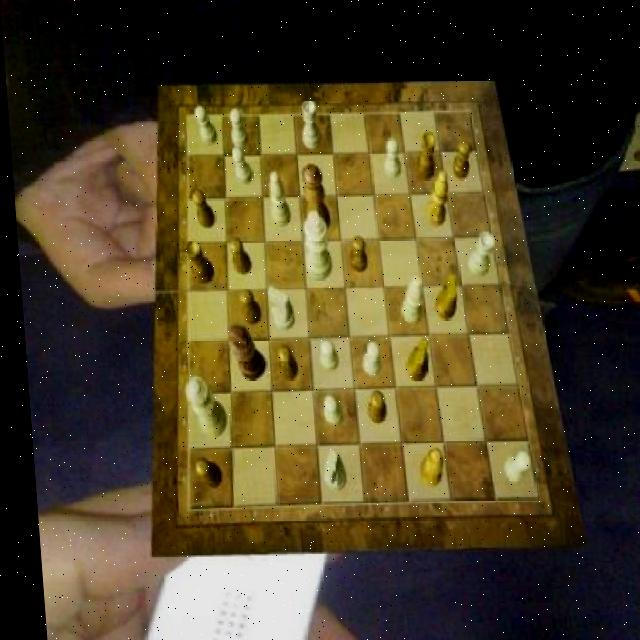bishop: (420, 171, 448, 225), (412, 448, 439, 486)
black-bishop: (222, 324, 261, 380)
black-king: (428, 274, 455, 320), (398, 338, 425, 381)
black-knight: (188, 458, 216, 489), (191, 191, 213, 229), (448, 142, 470, 180), (235, 290, 257, 326), (226, 238, 248, 274), (273, 344, 294, 380), (344, 236, 364, 272), (361, 390, 381, 424)
black-pawn: (299, 164, 329, 233)
black-queen: (180, 238, 210, 284), (412, 131, 438, 180)
black-rook: (265, 171, 288, 227), (395, 276, 421, 324)
white-bishop: (300, 210, 330, 282)
white-king: (263, 285, 290, 330), (314, 449, 339, 491)
white-knight: (497, 451, 526, 483), (194, 106, 216, 146), (229, 146, 251, 184), (381, 138, 400, 178), (228, 108, 247, 148), (355, 342, 375, 376), (312, 340, 333, 372), (317, 396, 338, 426)
white-pawn: (179, 377, 222, 437)
white-queen: (463, 231, 493, 276), (298, 100, 320, 149)
